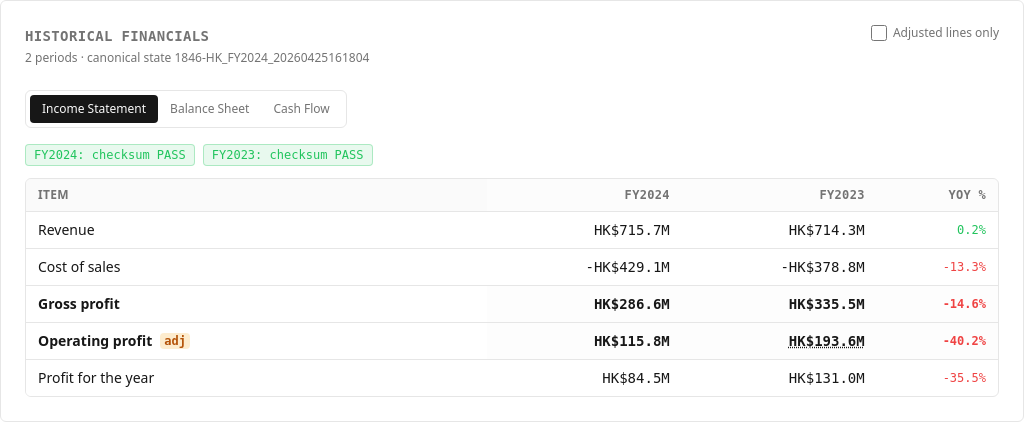
Test: HistoricalFinancials › switches to cash flow tab
Step 1. Click the button "Cash Flow" → (302, 109), box [261,95,342,123]
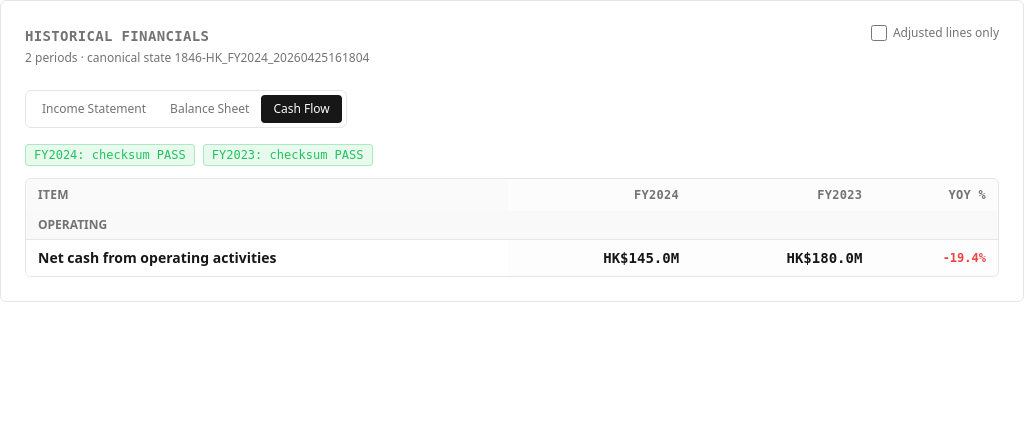
Result: the text "Net cash from operating activities" is shown at [38,248,277,268]
